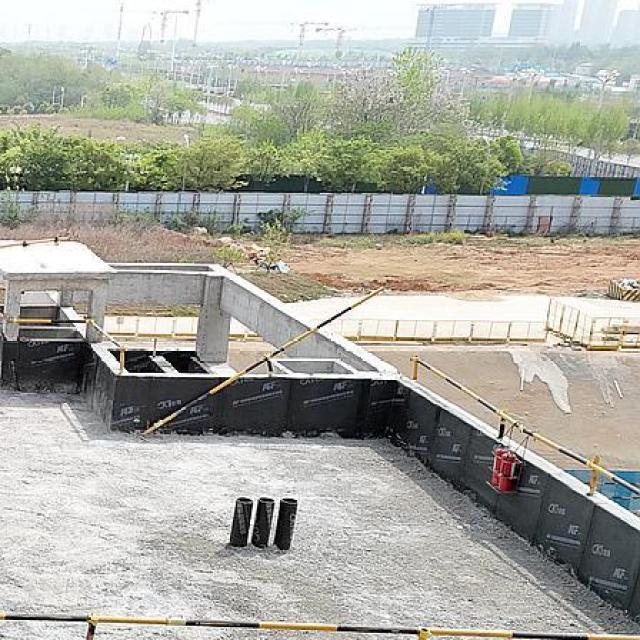Guardrail: (140, 284, 387, 439), (411, 356, 640, 497), (0, 613, 640, 640), (7, 315, 127, 372)
